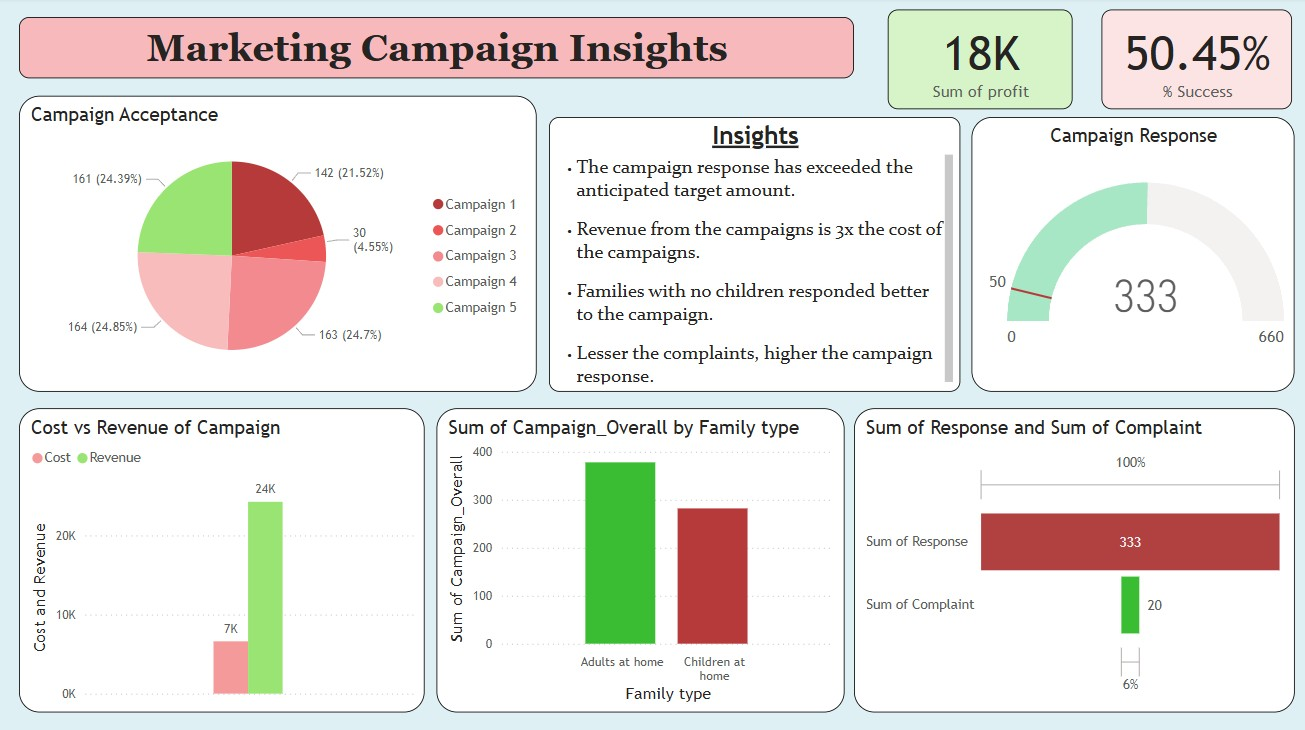

The dashboard page shown, as its layout file describes it:
{"tool":"powerbi","page":{"name":"Marketing Campaign Insights","canvas":[1280,720],"ordinal":1},"visuals":[{"type":"clusteredColumnChart","title":"Cost vs Revenue of Campaign","fields":{"Y":["Sum(ifood_df.Z_CostContact)","Sum(ifood_df.Z_Revenue)"]},"box":[19.5,402.1,396.5,297.7],"z":0},{"type":"pieChart","title":"Campaign Acceptance","fields":{"Y":["Sum(ifood_df.Campaign_1)","Sum(ifood_df.Campaign_2)","Sum(ifood_df.Campaign_3)","Sum(ifood_df.Campaign_4)","Sum(ifood_df.Campaign_5)"]},"box":[19.5,96,506.4,289.4],"z":1000},{"type":"gauge","title":"Campaign Response","fields":{"Y":["Sum(ifood_df.Response)"],"MaxValue":["Sum(ifood_df.Campaign_Overall)"],"TargetValue":["ifood_df.Target Response"]},"box":[951.7,116.9,315.8,268.5],"z":2000},{"type":"funnel","fields":{"Y":["Sum(ifood_df.Response)","Sum(ifood_df.Complaint)"]},"box":[836.2,402.1,431.3,297.7],"z":3000},{"type":"clusteredColumnChart","fields":{"Y":["Sum(ifood_df.Campaign_Overall)"],"Category":["ifood_df.Family type"]},"box":[428.5,402.1,399.3,297.7],"z":4000},{"type":"textbox","box":[19.5,19.5,816.7,59.8],"z":5000},{"type":"textbox","title":"Insights","box":[538.4,116.9,402.1,268.5],"z":6000},{"type":"card","fields":{"Values":["ifood_df.% Success"]},"box":[1078.3,12.5,186.4,97.4],"z":7000},{"type":"card","fields":{"Values":["Sum(ifood_df.profit)"]},"box":[869.6,12.5,180.9,97.4],"z":8000}]}

Visuals, with their boxes in screenshot pixels (x1, y1, x2, y2), scaled from the page's 1280x720 canvas onto the 1305x730 screenshot:
"Cost vs Revenue of Campaign" clusteredColumnChart: crop(20, 408, 424, 710)
"Campaign Acceptance" pieChart: crop(20, 97, 536, 391)
"Campaign Response" gauge: crop(970, 119, 1292, 391)
funnel - Sum(ifood_df.Response) x Sum(ifood_df.Complaint): crop(853, 408, 1292, 710)
clusteredColumnChart - Sum(ifood_df.Campaign_Overall) x ifood_df.Family type: crop(437, 408, 844, 710)
textbox: crop(20, 20, 853, 80)
"Insights" textbox: crop(549, 119, 959, 391)
card - ifood_df.% Success: crop(1099, 13, 1289, 111)
card - Sum(ifood_df.profit): crop(887, 13, 1071, 111)
